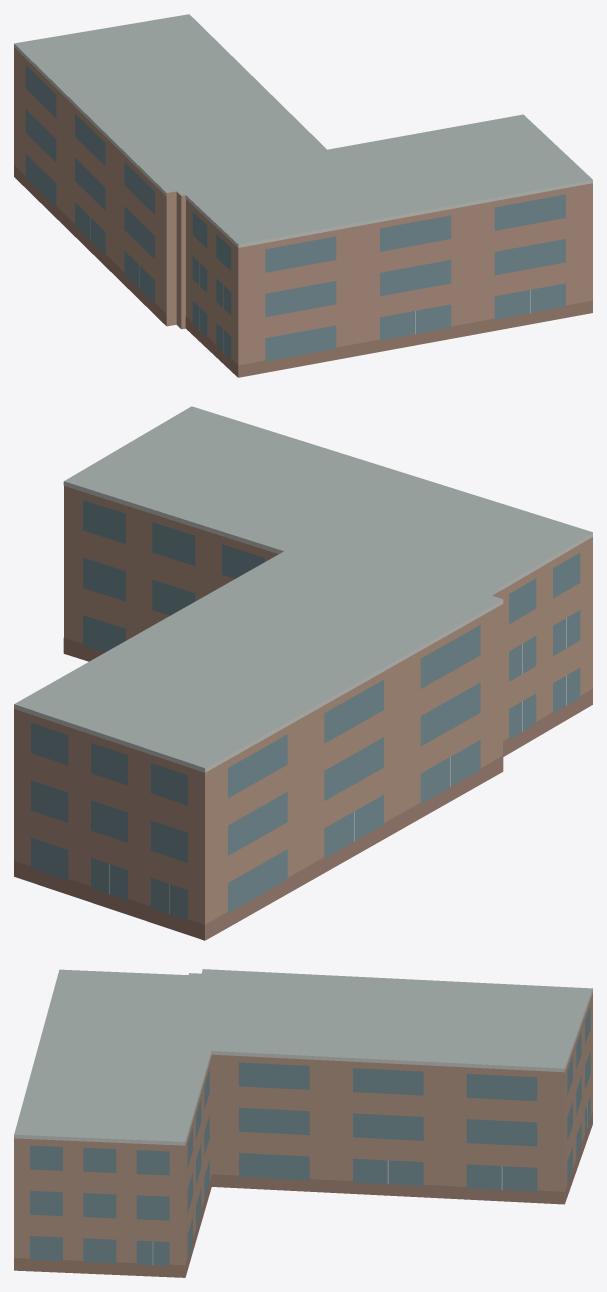
Rendered from survey-upis-32470825.glb.
3 renders of one model, top to bottom at view 1: azimuth 30°, elevation 25°; view 2: azimuth 150°, elevation 25°; view 3: azimuth 270°, elevation 25°, orthographic. The views are drawn at different scales.
Parts seen in each view (by area): view 1: survey-upis-32470825.tmp; view 2: survey-upis-32470825.tmp; view 3: survey-upis-32470825.tmp.
Part boxes in pixels (x1,y1,x2,y2): survey-upis-32470825.tmp: (14,14,592,377); survey-upis-32470825.tmp: (14,406,592,940); survey-upis-32470825.tmp: (14,969,592,1277).
Size of the model in its own units: 25.01 by 9.15 by 35.36.
